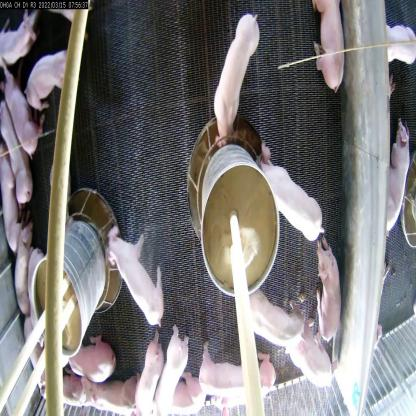Pig: (106, 218, 166, 344), (208, 12, 261, 153), (198, 344, 280, 414), (258, 163, 320, 248), (20, 38, 75, 130), (0, 65, 42, 174), (249, 278, 302, 359), (0, 100, 34, 211), (156, 313, 190, 415), (286, 329, 335, 392), (57, 336, 118, 386), (314, 241, 342, 344), (79, 372, 139, 415), (132, 342, 163, 415), (10, 226, 33, 309)
